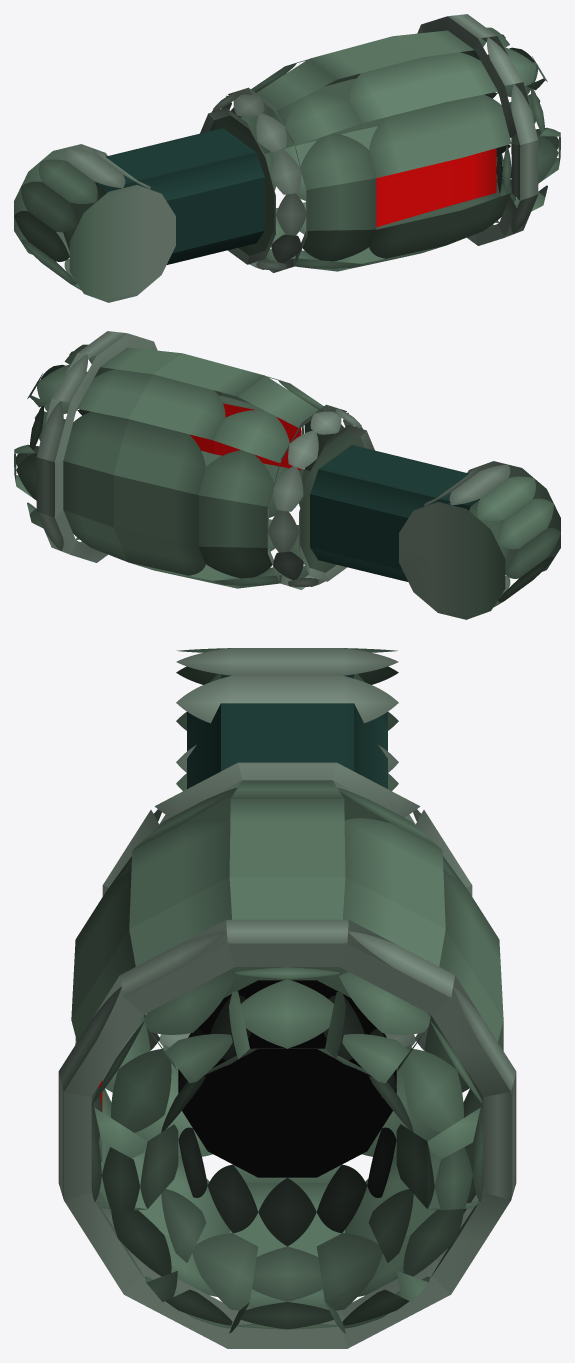
File: BusterBomber Right Arm.obj
The picture shows the model from 3 angles, top to bottom: view 1: azimuth 30°, elevation 25°; view 2: azimuth 150°, elevation 25°; view 3: azimuth 270°, elevation 25°; orthographic projection. The views are drawn at different scales.
Parts seen in each view (by area): view 1: cylinder, Arm; view 2: cylinder, Arm; view 3: cylinder, Arm.
Boxes of the visible parts, bbox=[...] form: cylinder: bbox=[14, 14, 560, 302]; Arm: bbox=[63, 128, 264, 264]; cylinder: bbox=[14, 331, 560, 619]; Arm: bbox=[310, 445, 511, 581]; cylinder: bbox=[58, 648, 516, 1348]; Arm: bbox=[187, 674, 387, 997].
Bounding box in the file's own units: 0.6244 × 0.2567 × 0.2567.
1 material, 1 textured.
